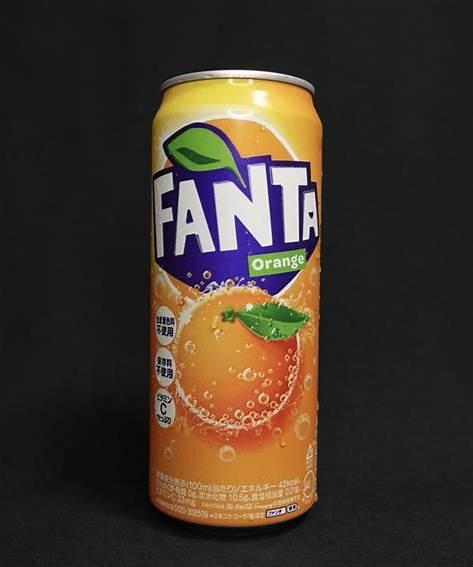metal: (150, 71, 323, 528)
